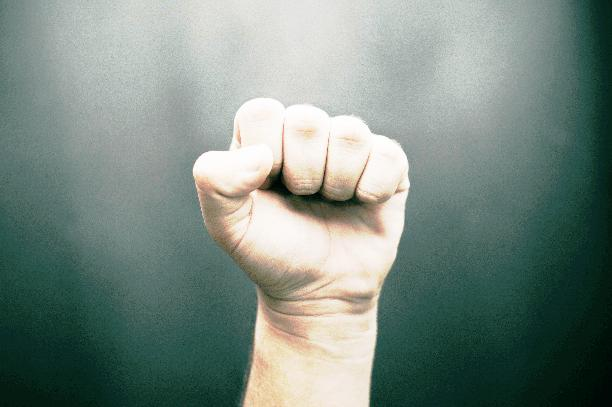Rock: (184, 88, 437, 318)
